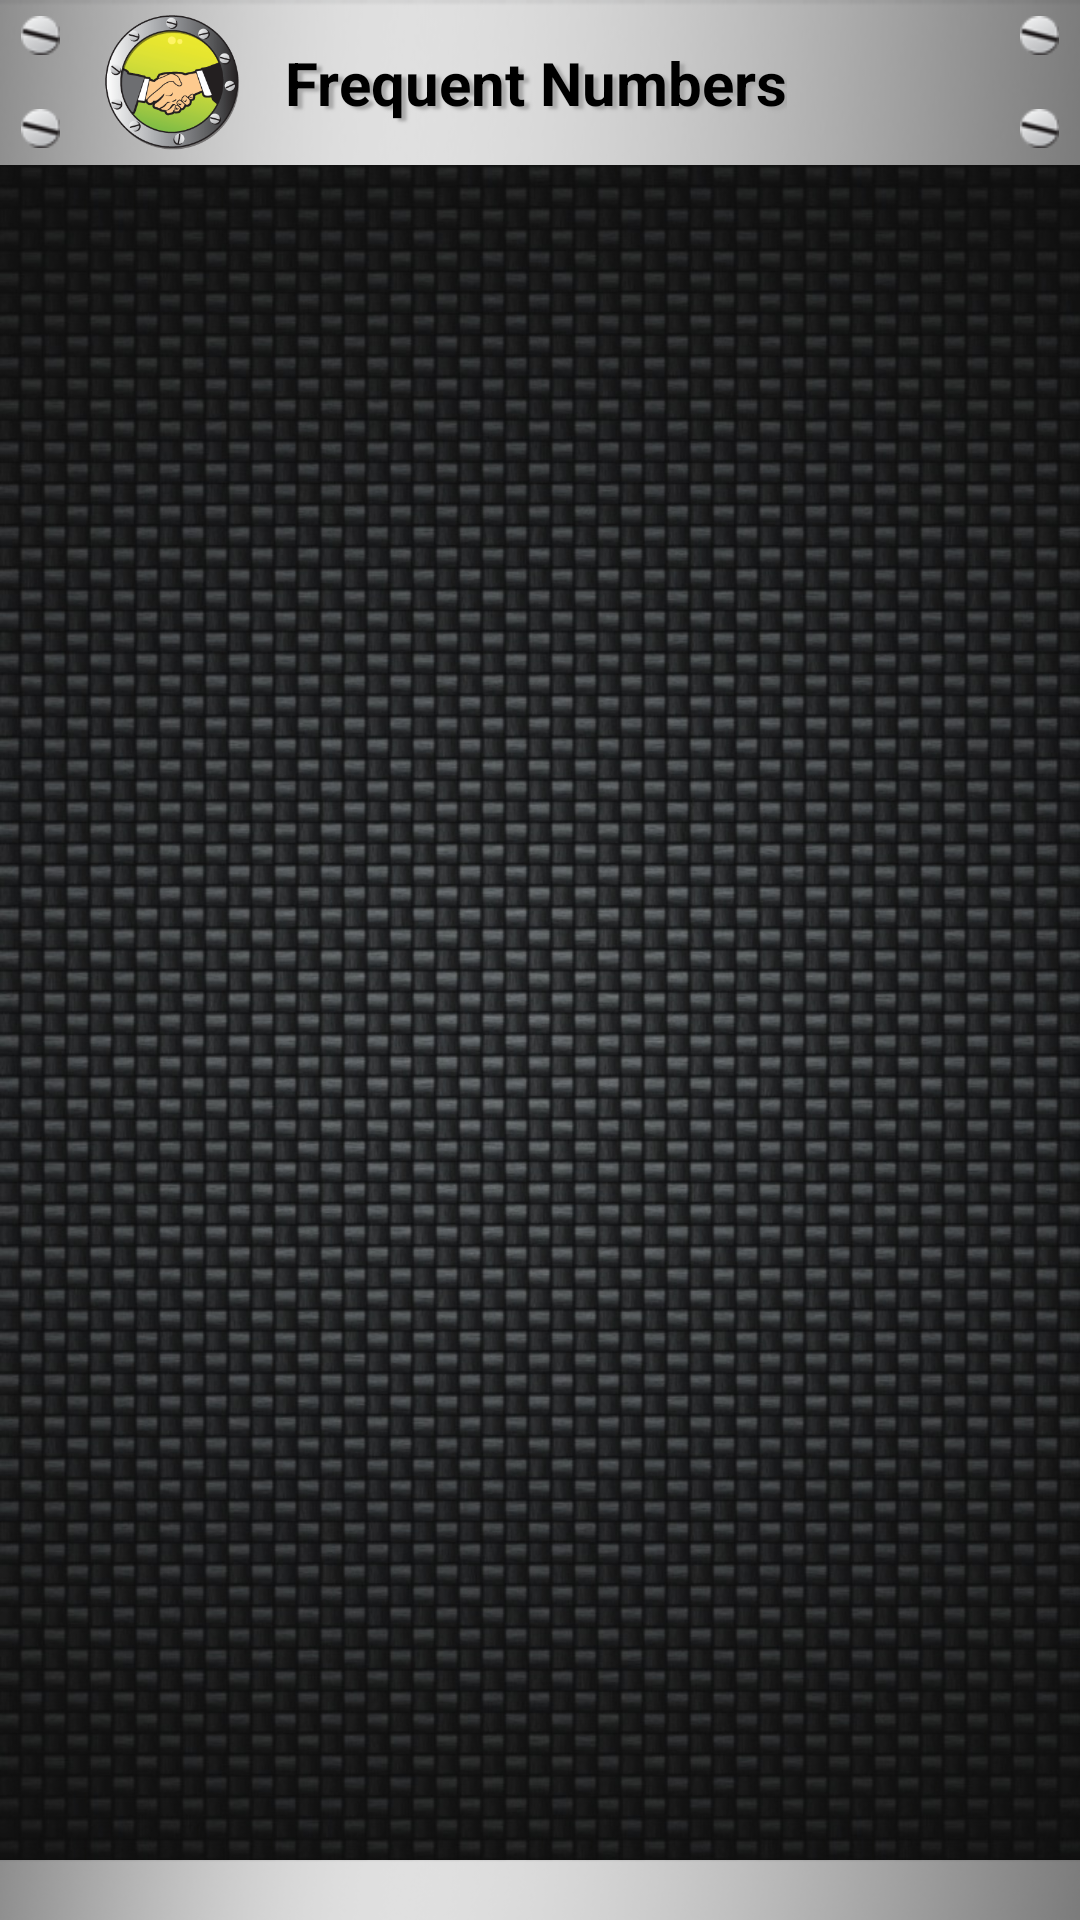

Icons on this 1080×1920 Android screen, each with the point to tap as (x,y):
frecuentes: (172,82)
tornillo: (40,35), (1039,35), (40,128), (1039,128)
